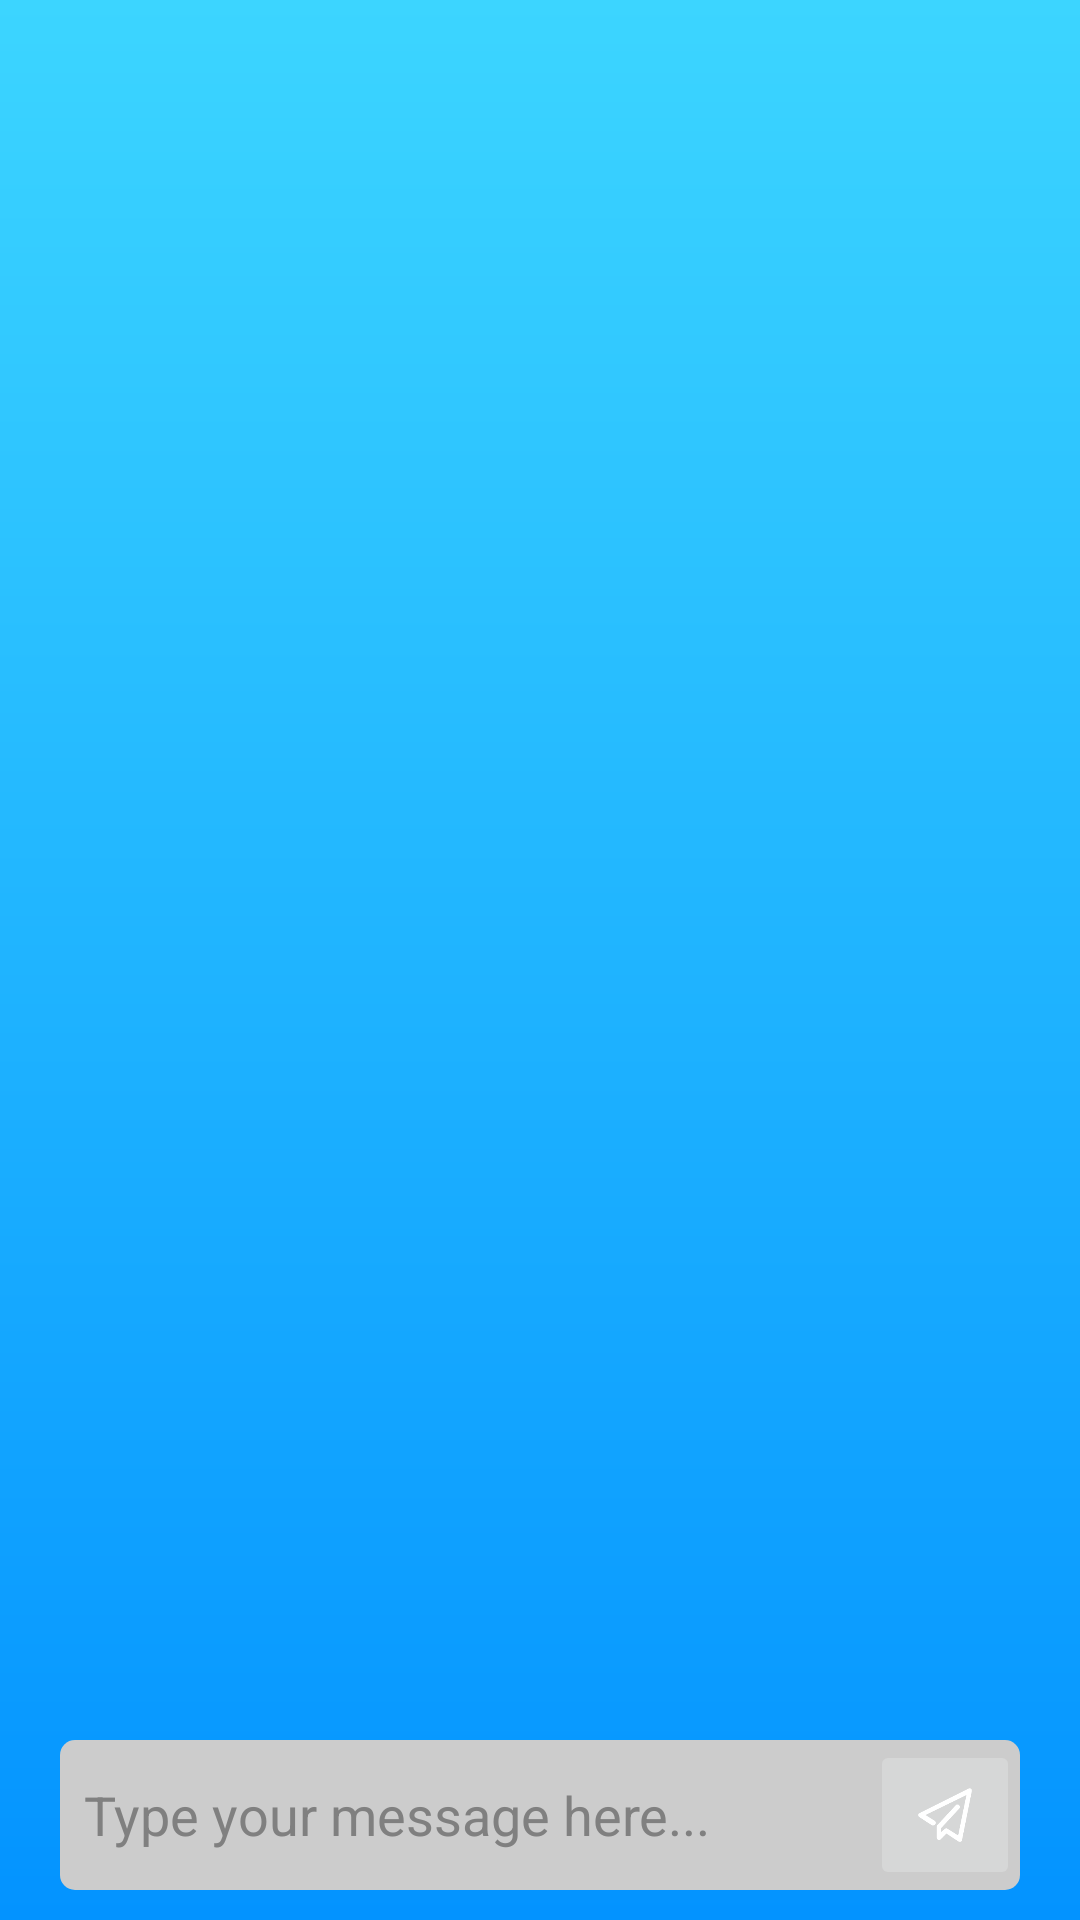

Locate icon controls on the screen. Image size 1080px x 1920px, boxes as (left=x1, top=y1, right=x2, bottom=y2).
plane: (left=870, top=1740, right=1020, bottom=1890)
